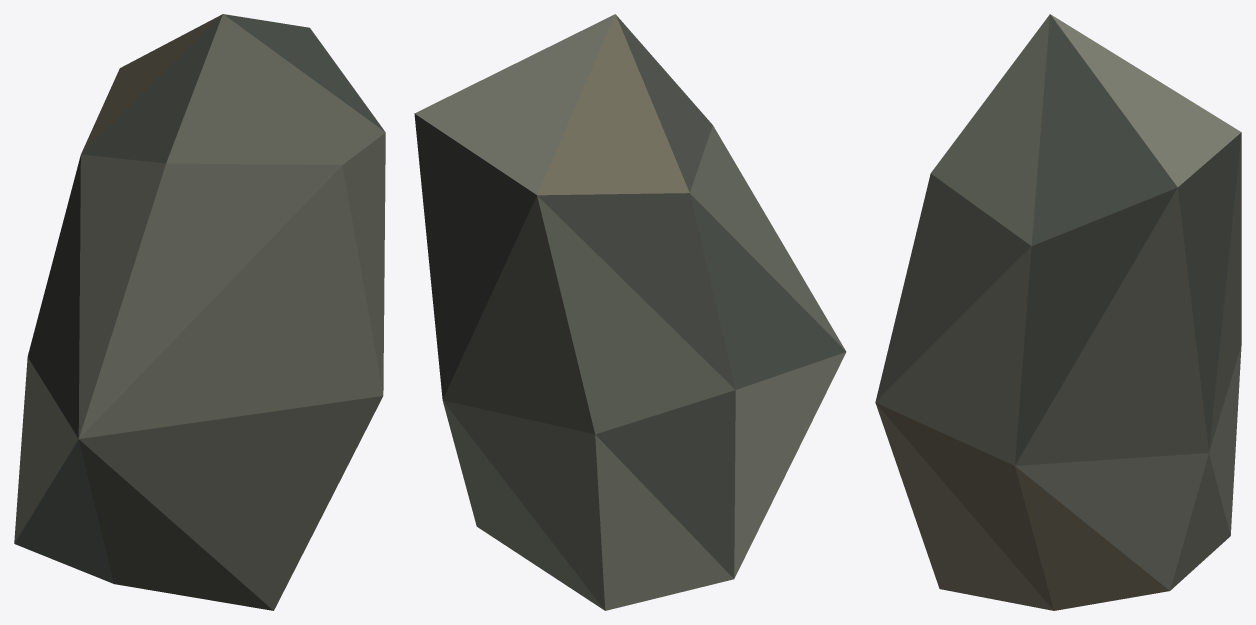
File: Boulder_03_Tall.obj
The picture shows the model from 3 angles, left to right: view 1: azimuth 30°, elevation 25°; view 2: azimuth 150°, elevation 25°; view 3: azimuth 270°, elevation 25°; orthographic projection. The views are drawn at different scales.
Parts seen in each view (by area): view 1: Boulder_03_Tall; view 2: Boulder_03_Tall; view 3: Boulder_03_Tall.
Part boxes in pixels (<box>): Boulder_03_Tall: <box>14,14,385,610</box>; Boulder_03_Tall: <box>414,14,846,610</box>; Boulder_03_Tall: <box>875,14,1241,610</box>.
Size of the model in its own units: 1.24 by 1.91 by 1.1.
Materials: 1 (1 with a texture image).
